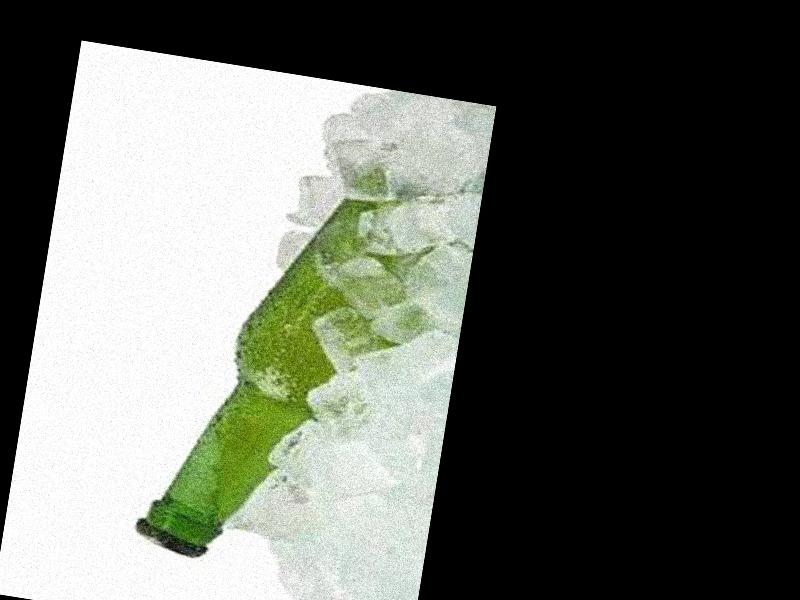Beer: (135, 145, 403, 585)
